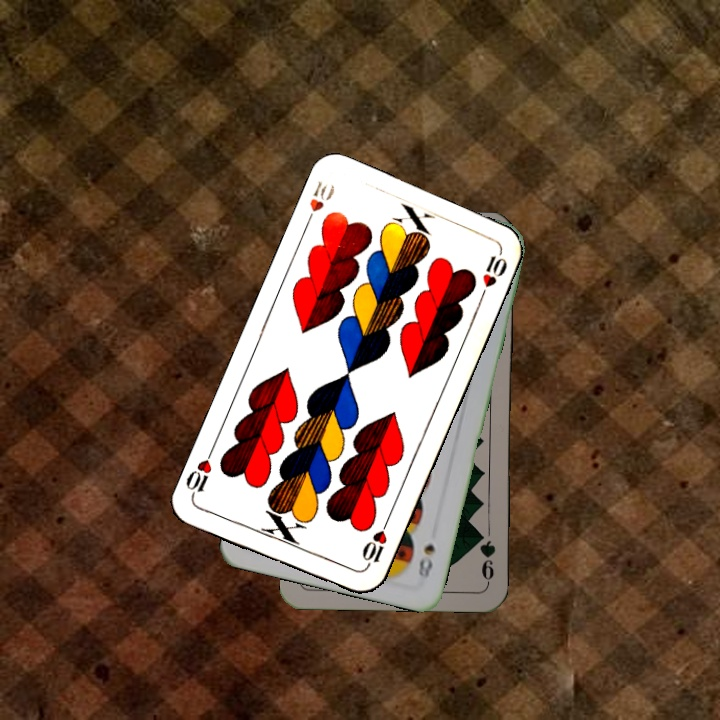G9: (473, 527, 498, 586)
H10: (300, 176, 337, 231), (358, 516, 392, 572)
S8: (414, 540, 438, 586)
